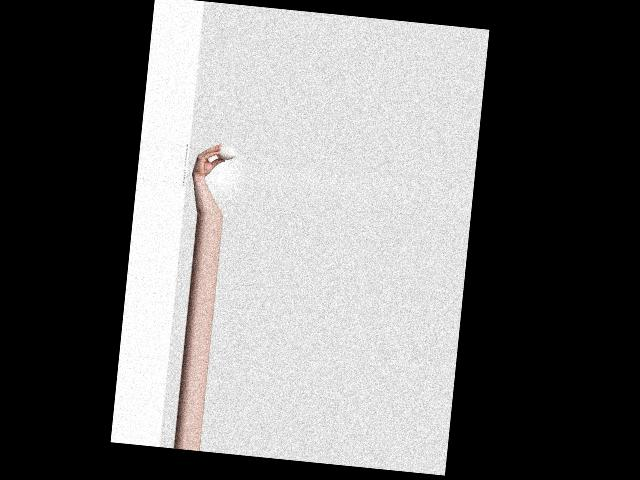egg: (215, 145, 237, 161)
